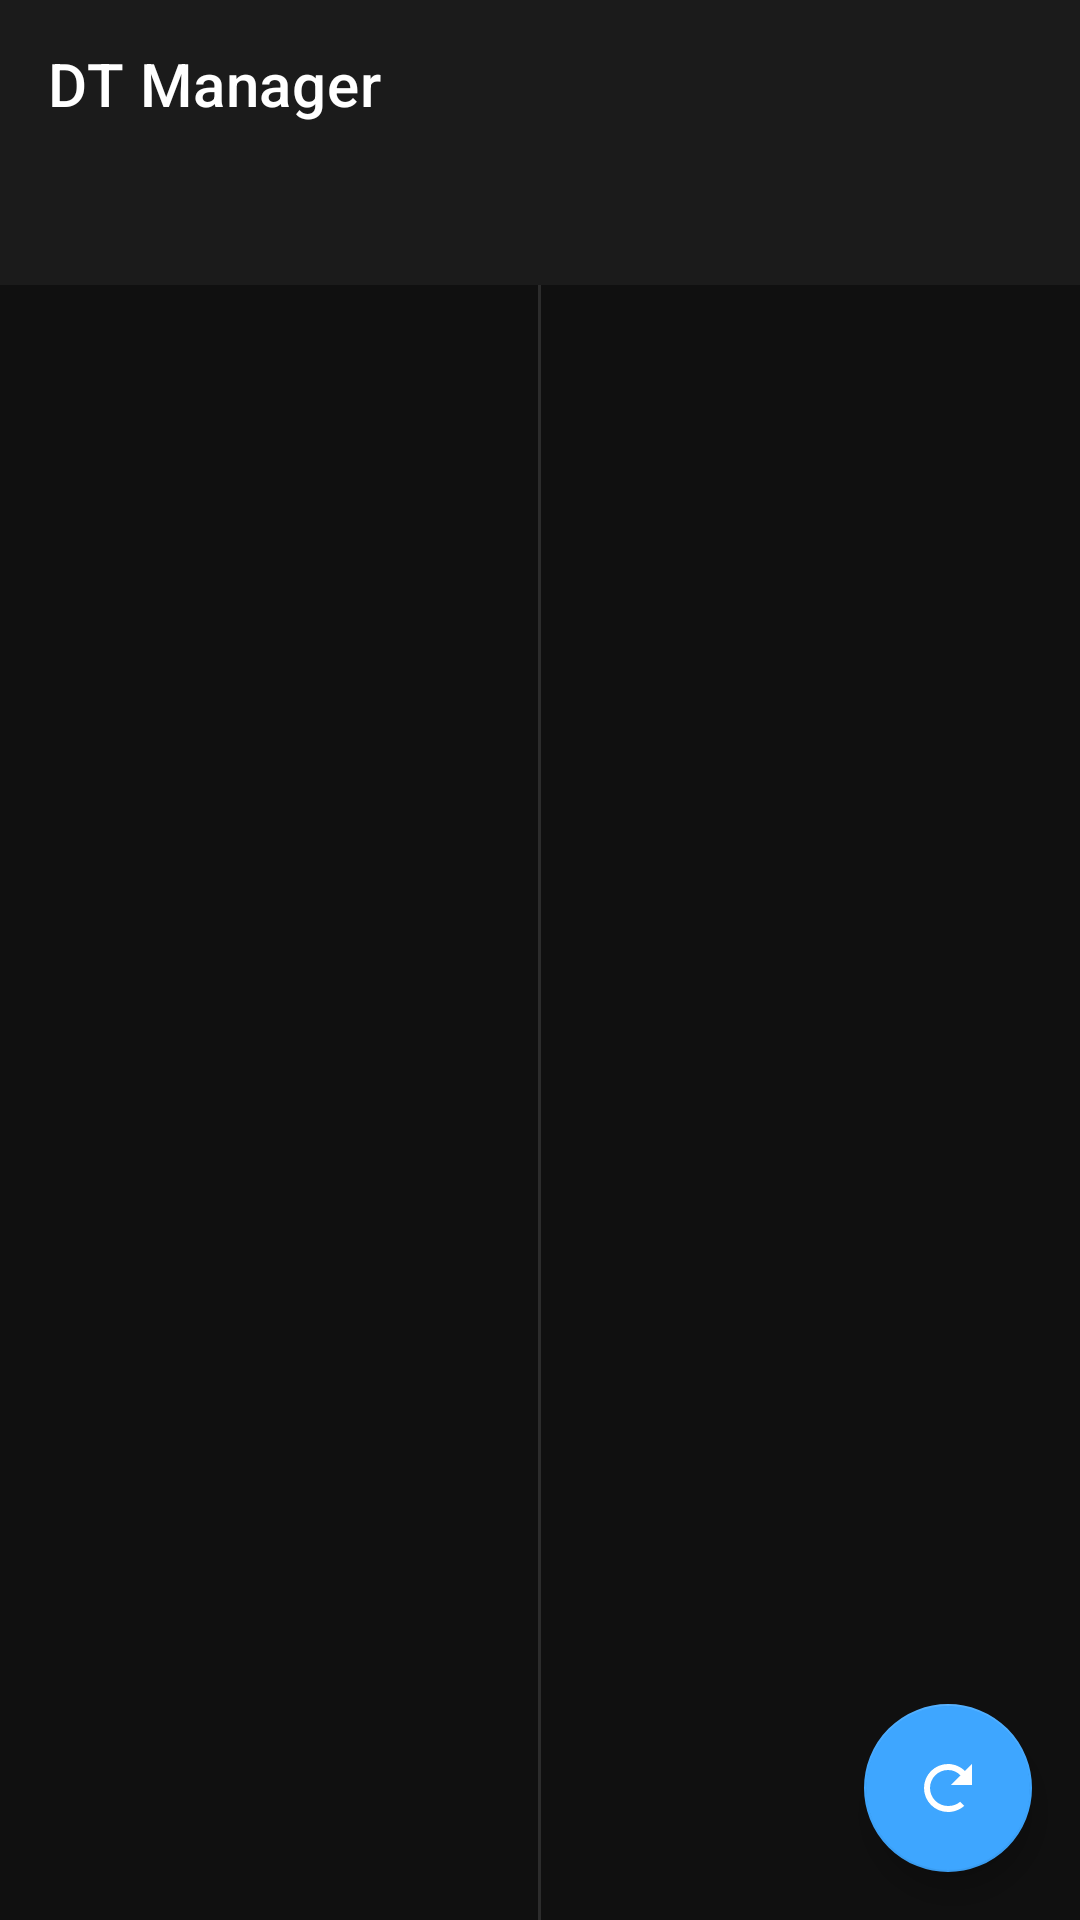

Screen size 1080×1920. Icon name, then its center in pixels as (x,y):
Refresh: (948,1788)
